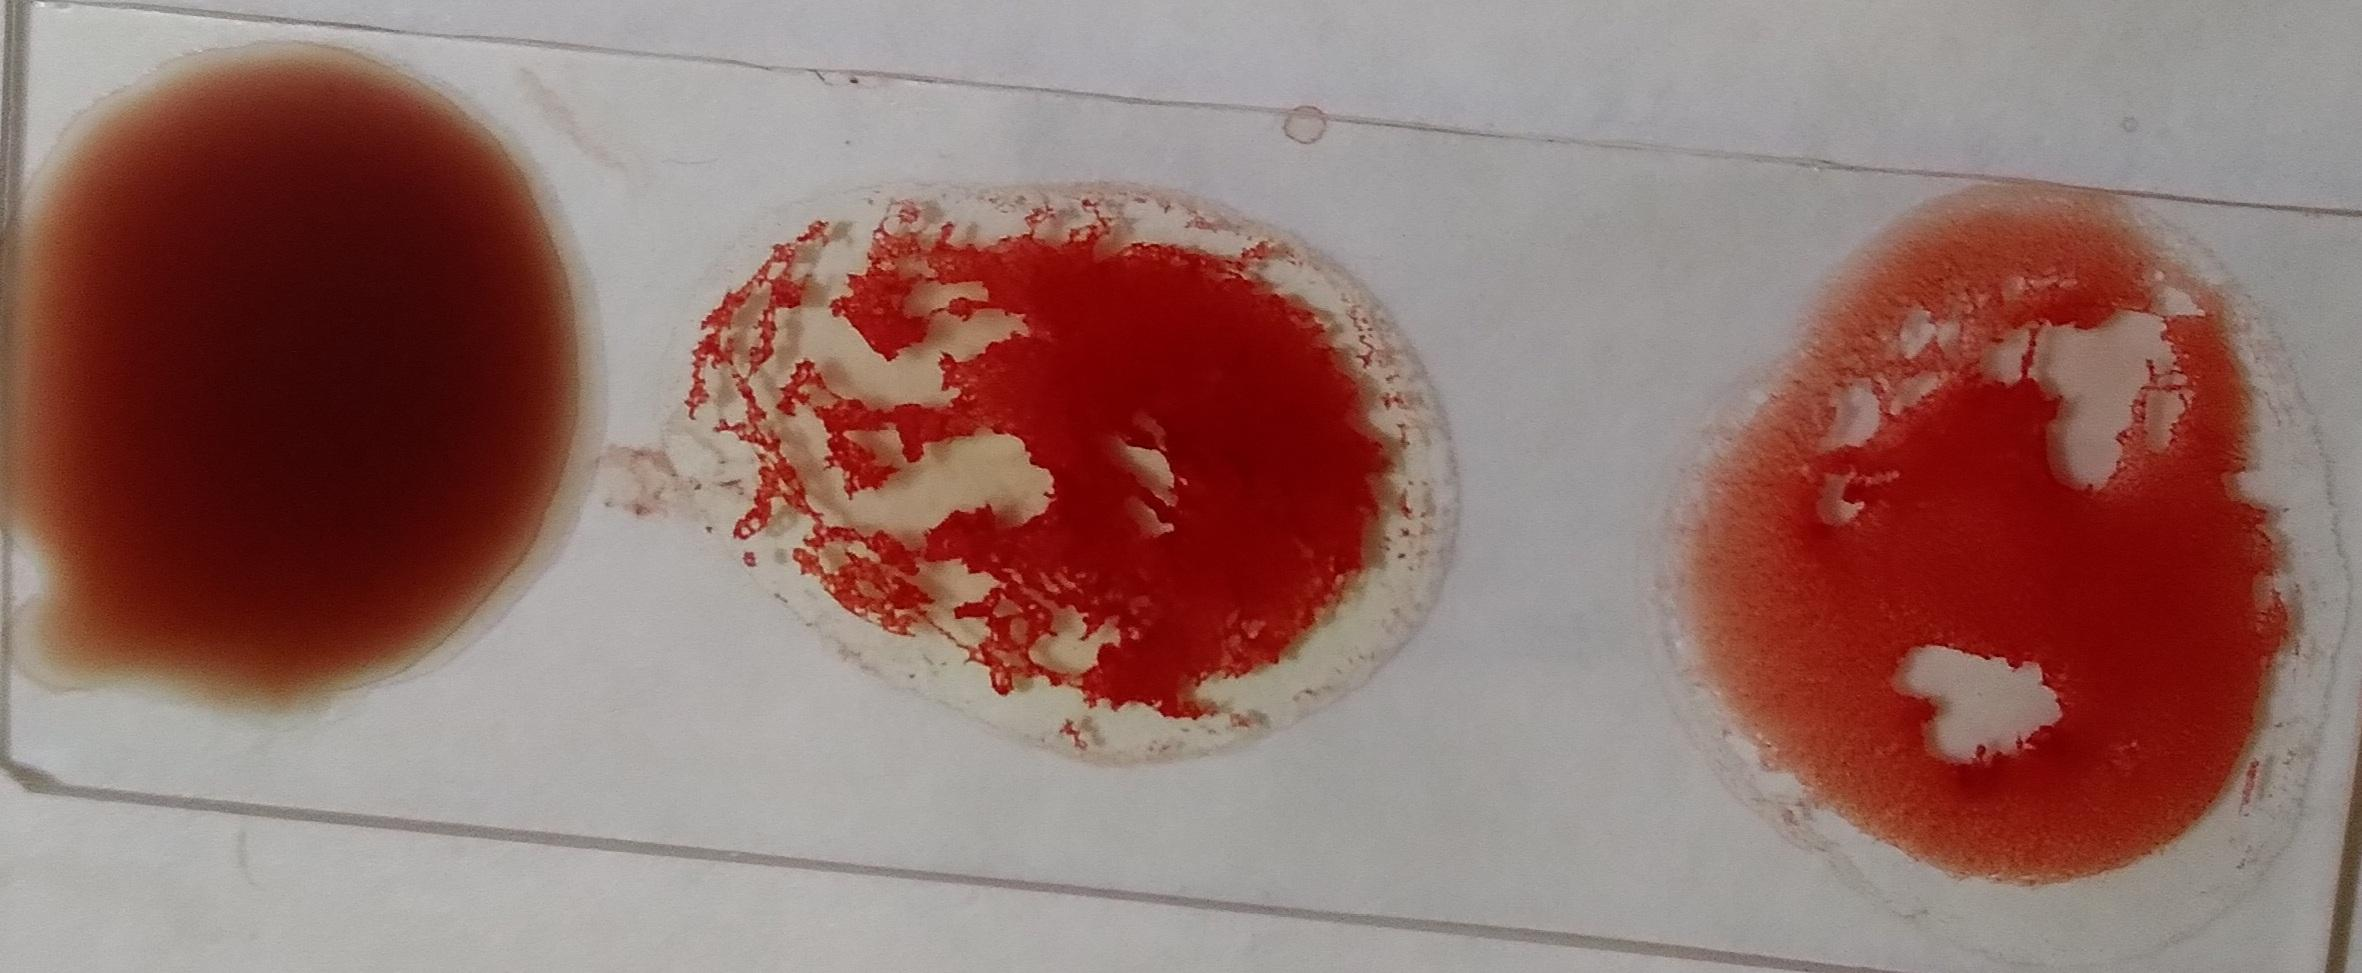B: (705, 178, 1479, 771)
D: (1689, 190, 2297, 910)
